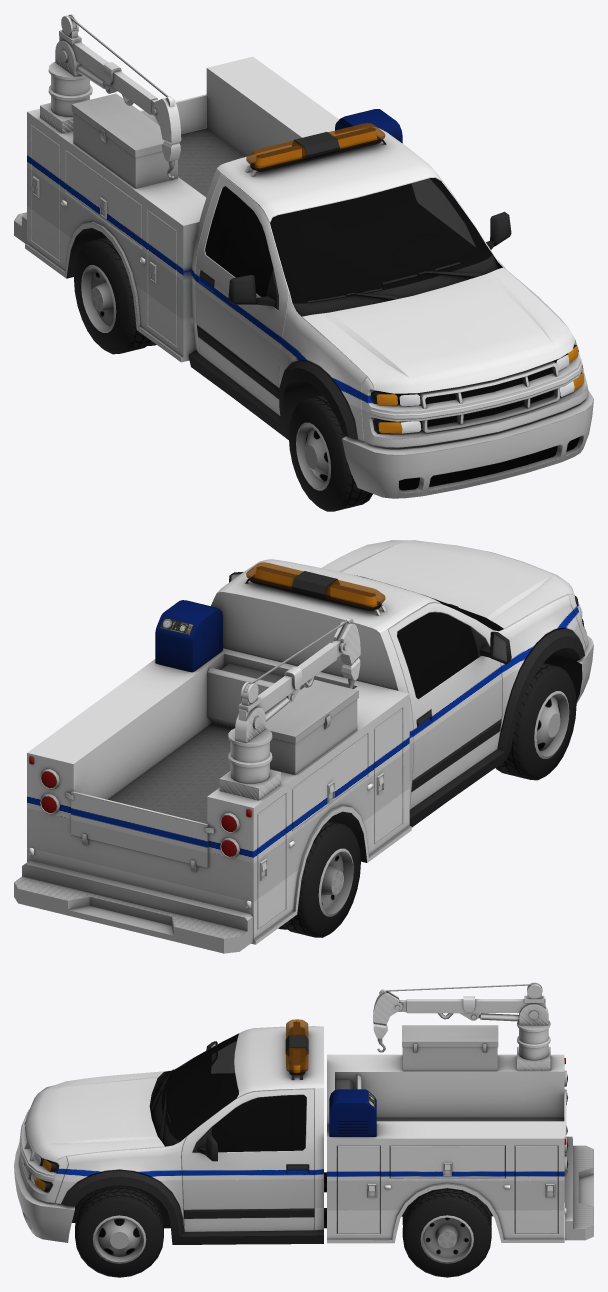
Rendered from car_service_truck.glb.
3 views of the same model, one above another, from view 1: azimuth 30°, elevation 25°; view 2: azimuth 150°, elevation 25°; view 3: azimuth 270°, elevation 25° (orthographic). The views are drawn at different scales.
Visible parts, largest first — view 1: Body, Glass1, WheelFR, WheelRR, Glass, Headlights; view 2: Body, WheelFR, WheelRR, Glass1, Glass, Brakelights; view 3: Body, Glass1, WheelFL, WheelRL, Glass.
Part boxes in pixels (x1,y1,x2,y2): Body: (14,14,593,498); Glass1: (205,178,492,303); WheelFR: (288,394,372,511); WheelRR: (74,237,156,354); Glass: (246,123,385,169); Headlights: (399,355,574,433); Body: (14,540,593,953); WheelFR: (495,663,576,780); WheelRR: (278,820,360,937); Glass1: (357,575,492,699); Glass: (246,562,385,608); Brakelights: (29,756,251,856); Body: (14,982,593,1244); Glass1: (161,1034,306,1152); WheelFL: (75,1186,163,1277); WheelRL: (402,1188,491,1277); Glass: (286,1019,308,1073).
Bounding box in the file's own units: 2.8 × 2.74 × 6.6.
Materials: 7 (3 with a texture image).
